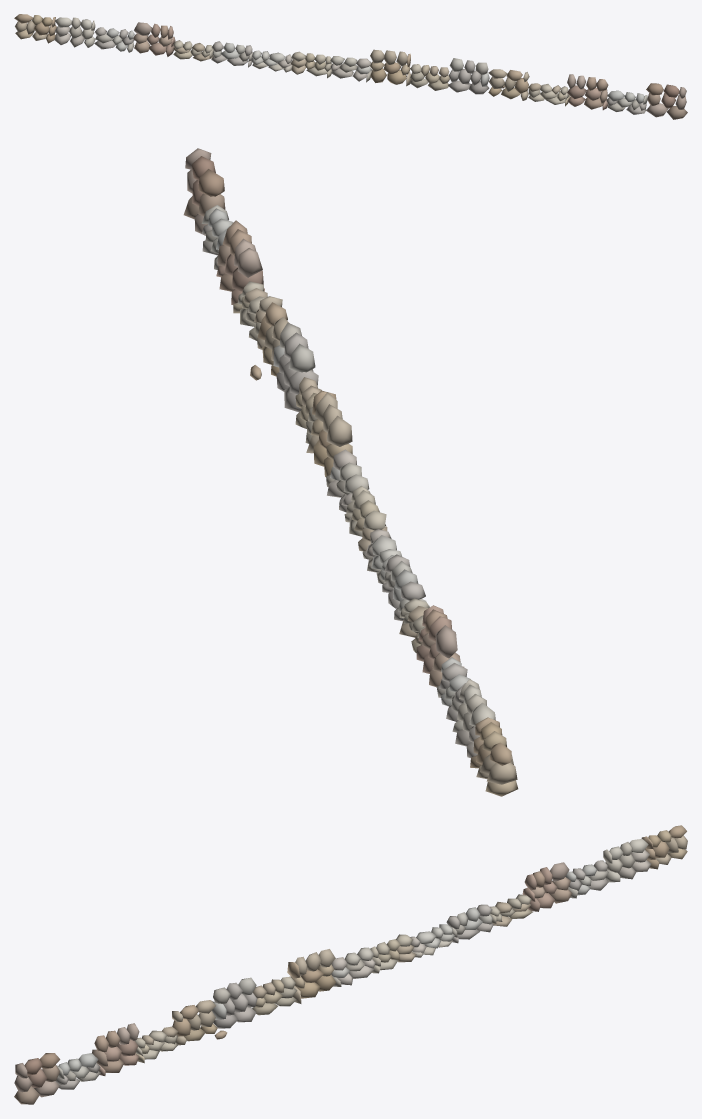
File: farm_6_13_near.glb
The picture shows the model from 3 angles, top to bottom: view 1: azimuth 30°, elevation 25°; view 2: azimuth 150°, elevation 25°; view 3: azimuth 270°, elevation 25°; orthographic projection. The views are drawn at different scales.
Parts seen in each view (by area): view 1: geometry_0; view 2: geometry_0; view 3: geometry_0.
Part boxes in pixels (left/top/right/bottom): geometry_0: left=14, top=14, right=687, bottom=119; geometry_0: left=183, top=148, right=518, bottom=796; geometry_0: left=14, top=825, right=687, bottom=1104.
Size of the model in its own units: 18.58 by 1.59 by 20.1.
